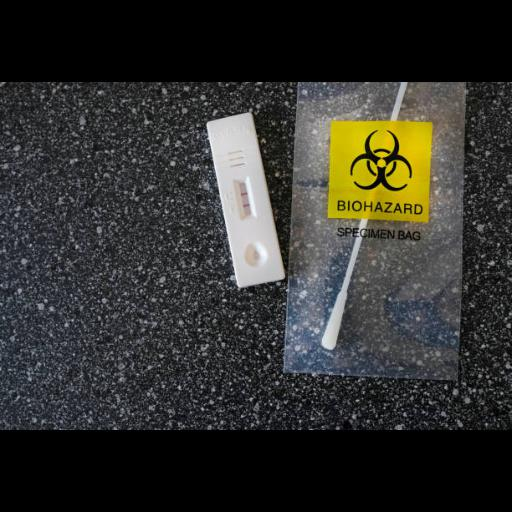Pos: (206, 110, 286, 286)
